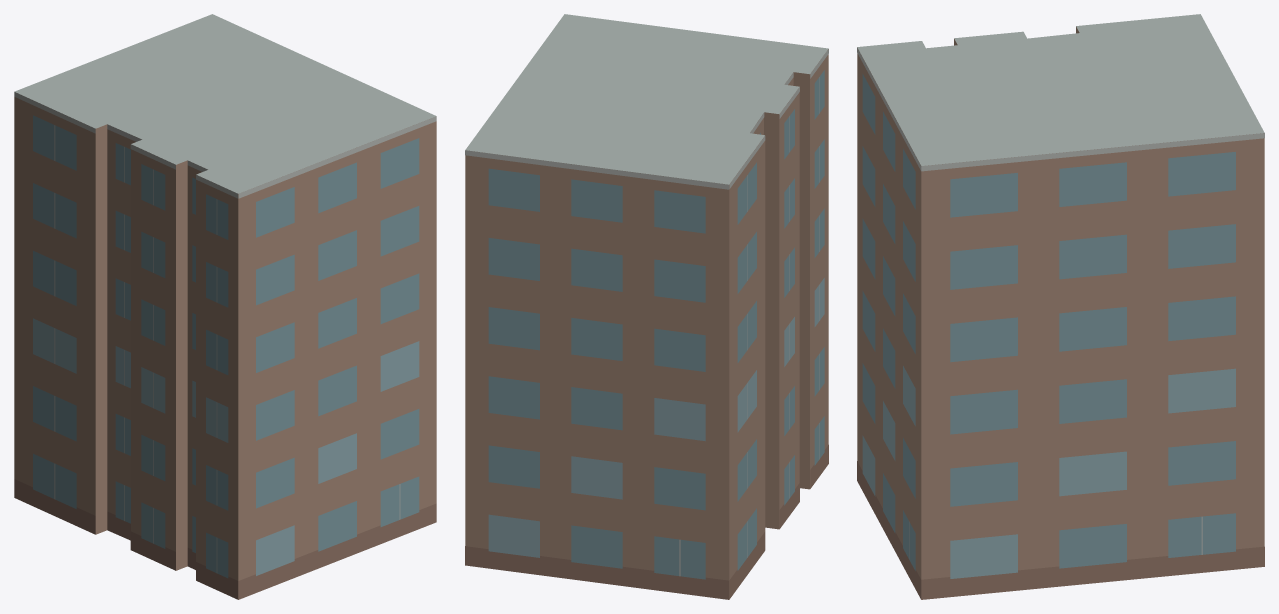
Rendered from survey-upis-32867668.glb.
3 renders of one model, left to right at view 1: azimuth 30°, elevation 25°; view 2: azimuth 150°, elevation 25°; view 3: azimuth 270°, elevation 25°, orthographic. The views are drawn at different scales.
Parts seen in each view (by area): view 1: survey-upis-32867668.tmp; view 2: survey-upis-32867668.tmp; view 3: survey-upis-32867668.tmp.
Boxes of the visible parts, x1,y1,x2,y2 form: survey-upis-32867668.tmp: (14,14,436,599); survey-upis-32867668.tmp: (465,14,828,599); survey-upis-32867668.tmp: (857,14,1264,599).
Bounding box in the file's own units: 14.97 × 19.9 × 16.96.
